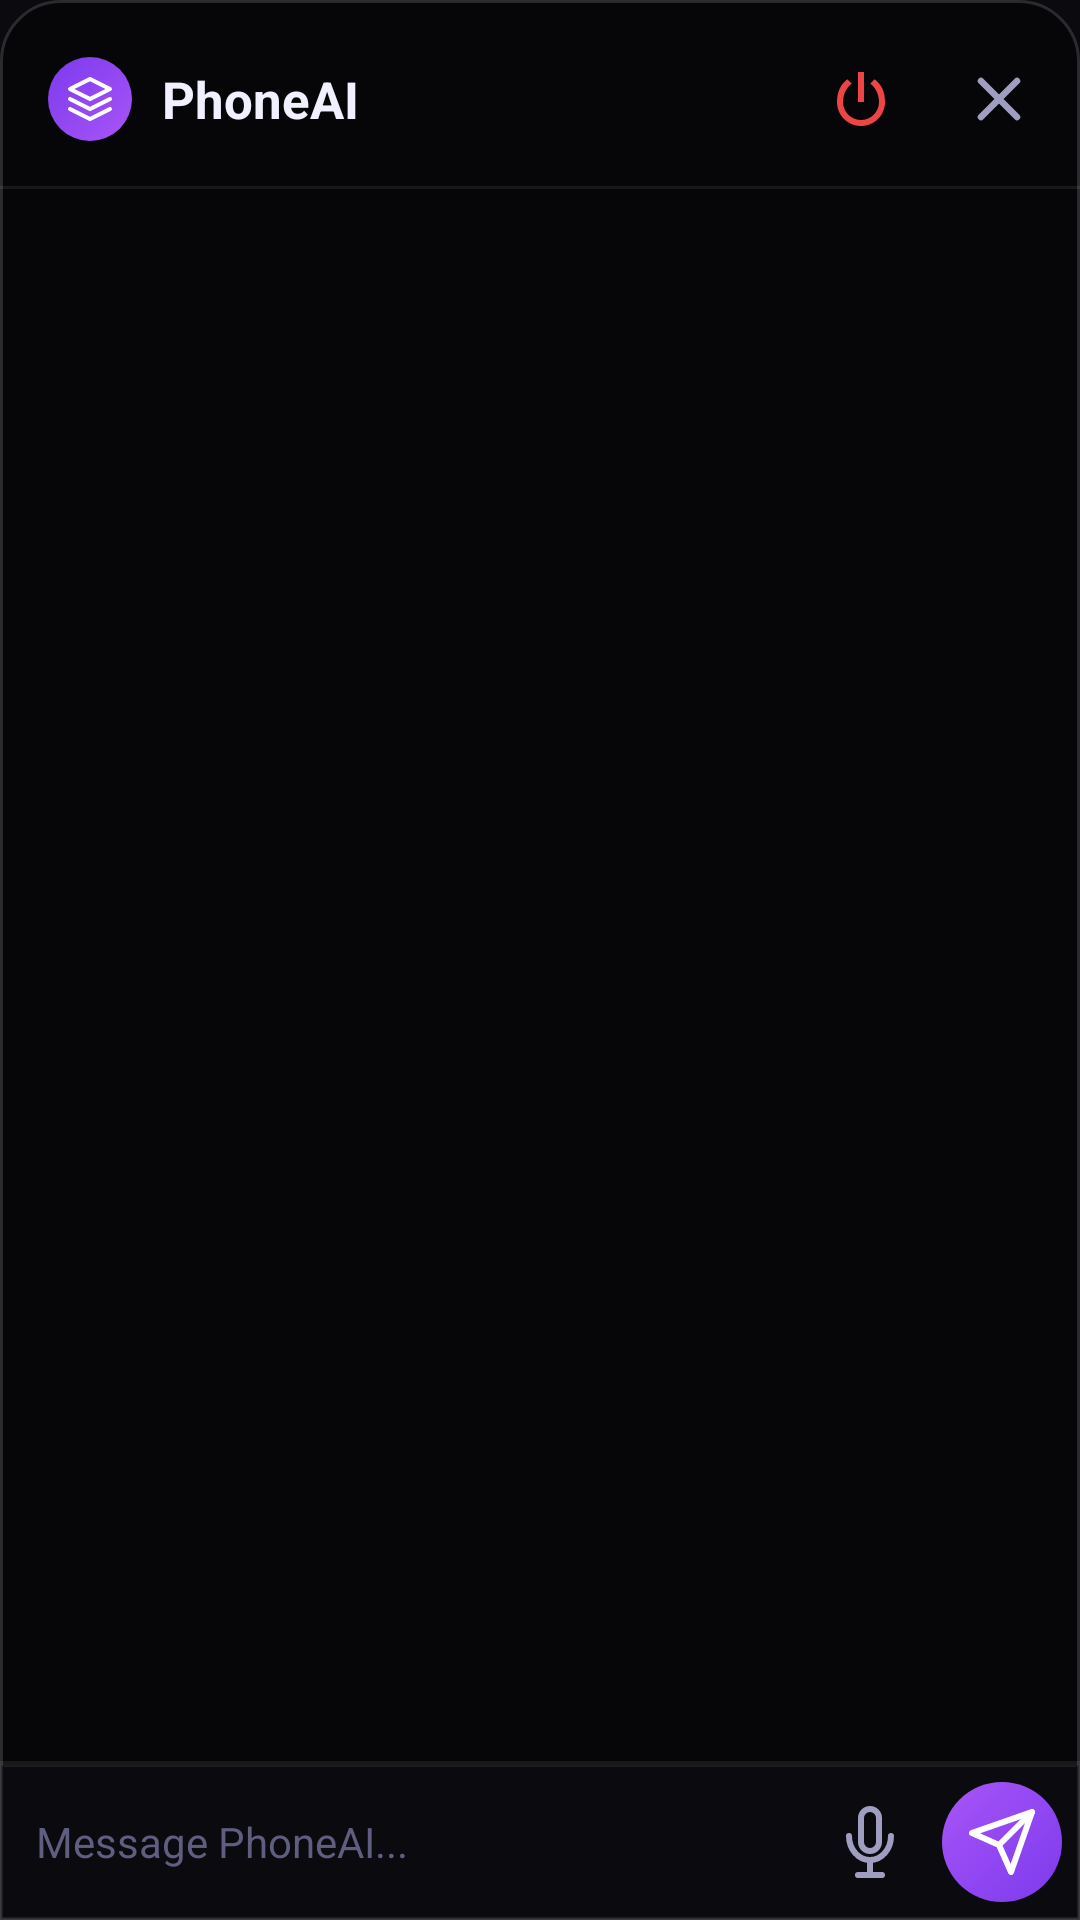

Icons on this 1080x1920 Android screen, each with the point to tap as point (x, y):
Close: point (999, 99)
Hold to record voice: point (870, 1842)
Quit App: point (861, 99)
Send: point (1002, 1842)
